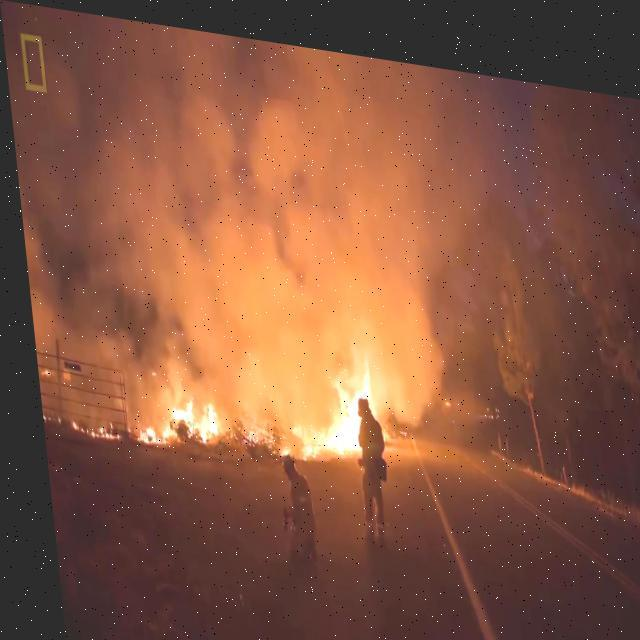Fire: (278, 340, 374, 462), (162, 385, 219, 442), (62, 416, 112, 440), (127, 417, 164, 446), (32, 366, 44, 378)
